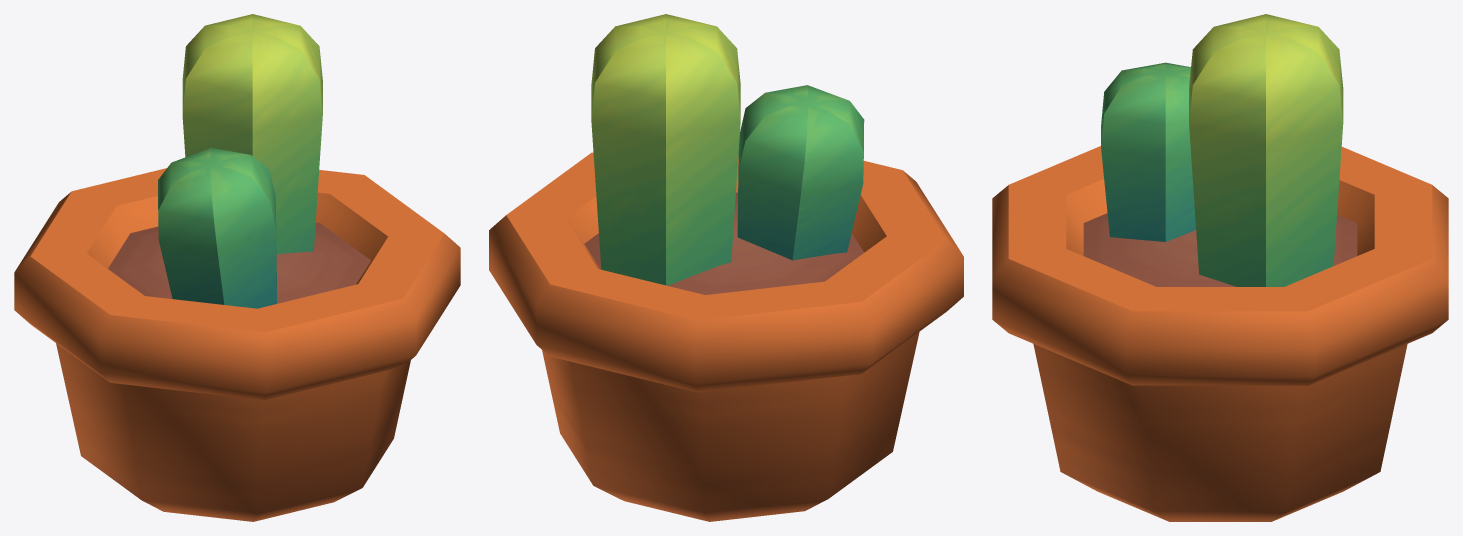
File: furniture-cactus-small-b.gltf
3 renders of one model, left to right at view 1: azimuth 30°, elevation 25°; view 2: azimuth 150°, elevation 25°; view 3: azimuth 270°, elevation 25°, orthographic. The views are drawn at different scales.
Visible parts, largest first — view 1: cactus_small_B; view 2: cactus_small_B; view 3: cactus_small_B.
Boxes of the visible parts, x1,y1,x2,y2 form: cactus_small_B: [14, 14, 460, 521]; cactus_small_B: [489, 14, 963, 521]; cactus_small_B: [992, 14, 1448, 521].
Size of the model in its own units: 0.5 by 0.5516 by 0.5.
Materials: 1 (1 with a texture image).
